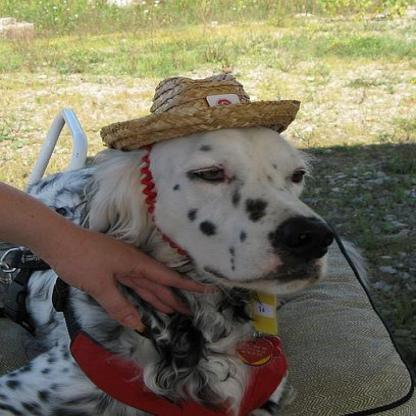English_setter: (0, 71, 341, 414)
